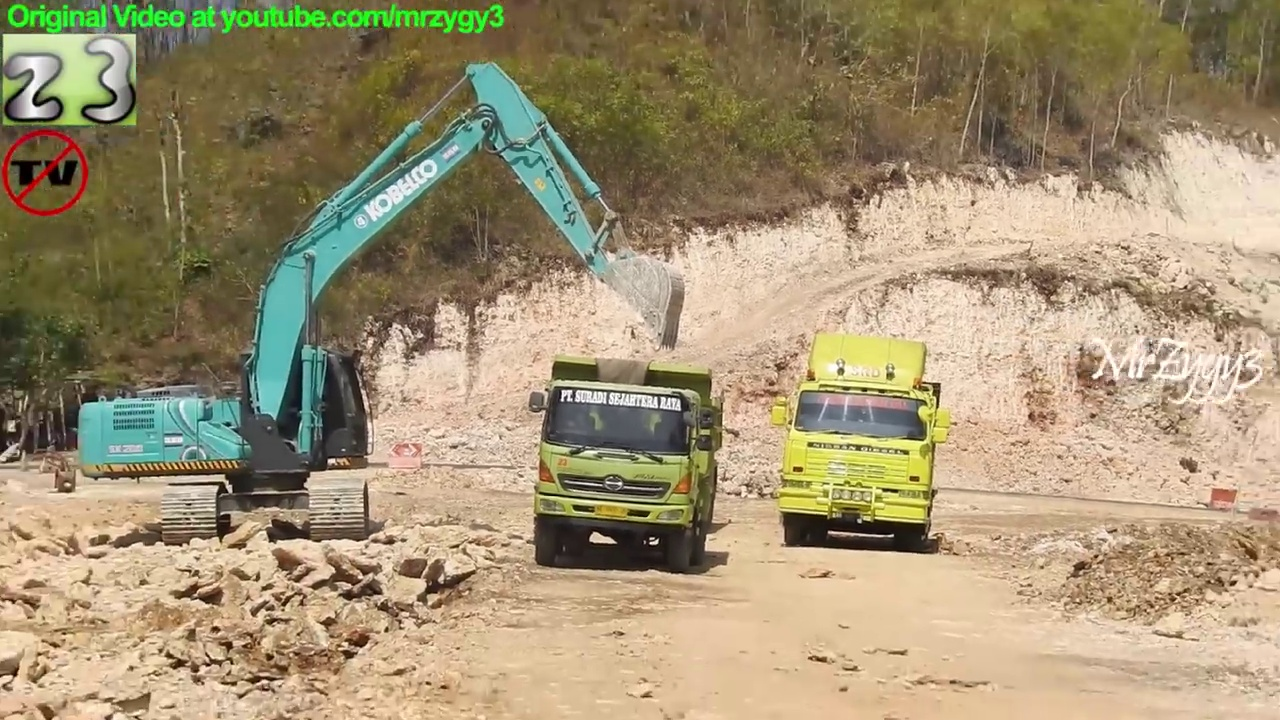excavator: (74, 57, 695, 551)
truck: (526, 352, 729, 578), (769, 327, 951, 557)
